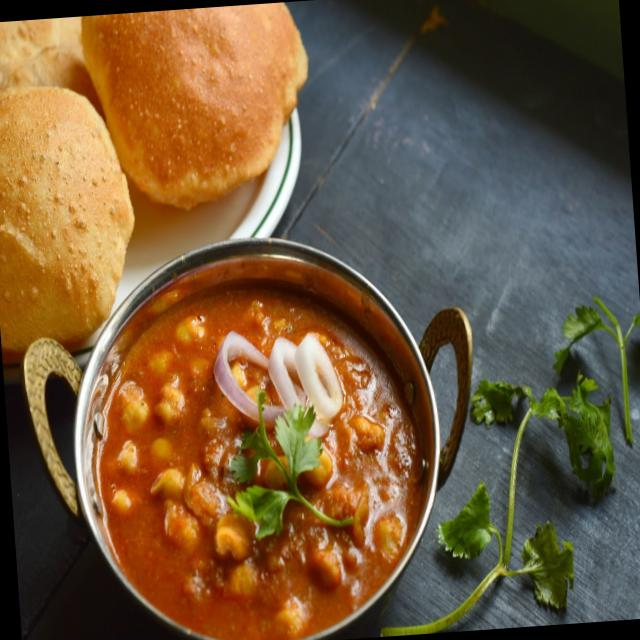Bhatura: (80, 0, 318, 214), (0, 79, 144, 366), (0, 15, 104, 127)
Chole: (71, 268, 435, 640)
